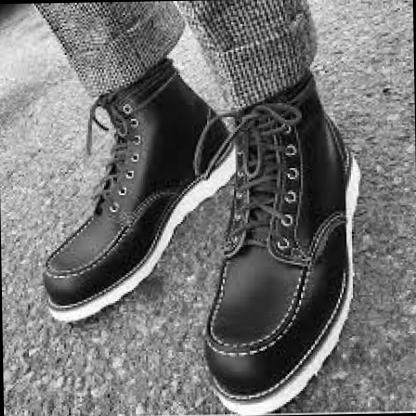ankle: (150, 82, 162, 94), (307, 106, 315, 114)
heel: (348, 171, 358, 180), (202, 110, 209, 119)
left_foot: (40, 62, 217, 325)
pinky: (268, 339, 282, 349), (50, 255, 56, 263)
right_foot: (214, 96, 366, 413)
toe: (78, 283, 84, 289), (221, 344, 227, 350)
